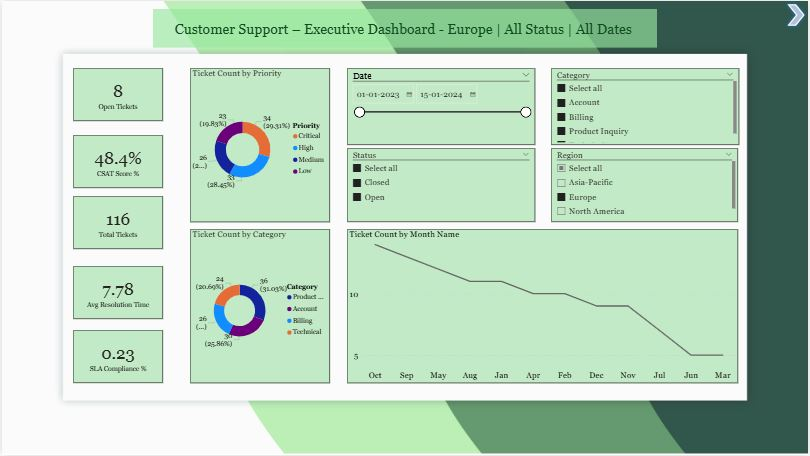

The dashboard page shown, as its layout file describes it:
{"tool":"powerbi","page":{"name":"Page 1","canvas":[1920,1080],"ordinal":0},"visuals":[{"type":"card","fields":{"Values":["KPIs.Open Tickets"]},"box":[169,159.5,214.3,126.2],"z":0},{"type":"card","fields":{"Values":["KPIs.Total Tickets"]},"box":[169,464.3,214.3,126.2],"z":1000},{"type":"card","fields":{"Values":["KPIs.Average Resolution Time"]},"box":[169,631,214.3,126.2],"z":2000},{"type":"card","fields":{"Values":["KPIs.SLA Compliance %"]},"box":[169,783.3,214.3,126.2],"z":3000},{"type":"card","fields":{"Values":["KPIs.CSAT %"]},"box":[169,319,214.3,126.2],"z":4000},{"type":"donutChart","fields":{"Y":["KPIs.Ticket Count"],"Category":["Tickets.Category"]},"box":[447.6,542.9,333.3,366.7],"z":5000},{"type":"donutChart","fields":{"Y":["KPIs.Ticket Count"],"Category":["Tickets.Priority"]},"box":[447.6,159.5,333.3,366.7],"z":6000},{"type":"lineChart","fields":{"Y":["KPIs.Ticket Count"],"Category":["DateTable.Month Name"]},"box":[821.4,542.9,931,366.7],"z":7000},{"type":"slicer","fields":{"Values":["DateTable.Date"]},"box":[821.4,159.5,447.6,183.3],"z":8000},{"type":"slicer","fields":{"Values":["Tickets.Status"]},"box":[821.4,350,447.6,176.2],"z":9000},{"type":"slicer","fields":{"Values":["Tickets.Category"]},"box":[1307.1,159.5,447.6,183.3],"z":10000},{"type":"slicer","fields":{"Values":["Customers.Region"]},"box":[1307.1,350,445.2,176.2],"z":11000},{"type":"actionButton","box":[1861.9,0,57.1,66.7],"z":12000},{"type":"card","fields":{"Values":["Agents.PageTitle_Executive"]},"box":[360,20,1200,92],"z":12001}]}

Visuals, with their boxes in screenshot pixels (x1, y1, x2, y2), scaled from the page's 1920x1080 canvas onto the 810x456 screenshot:
card - KPIs.Open Tickets: region(71, 67, 162, 121)
card - KPIs.Total Tickets: region(71, 196, 162, 249)
card - KPIs.Average Resolution Time: region(71, 266, 162, 320)
card - KPIs.SLA Compliance %: region(71, 331, 162, 384)
card - KPIs.CSAT %: region(71, 135, 162, 188)
donutChart - KPIs.Ticket Count x Tickets.Category: region(189, 229, 329, 384)
donutChart - KPIs.Ticket Count x Tickets.Priority: region(189, 67, 329, 222)
lineChart - KPIs.Ticket Count x DateTable.Month Name: region(347, 229, 739, 384)
slicer - DateTable.Date: region(347, 67, 535, 145)
slicer - Tickets.Status: region(347, 148, 535, 222)
slicer - Tickets.Category: region(551, 67, 740, 145)
slicer - Customers.Region: region(551, 148, 739, 222)
actionButton: region(785, 0, 809, 28)
card - Agents.PageTitle_Executive: region(152, 8, 658, 47)
